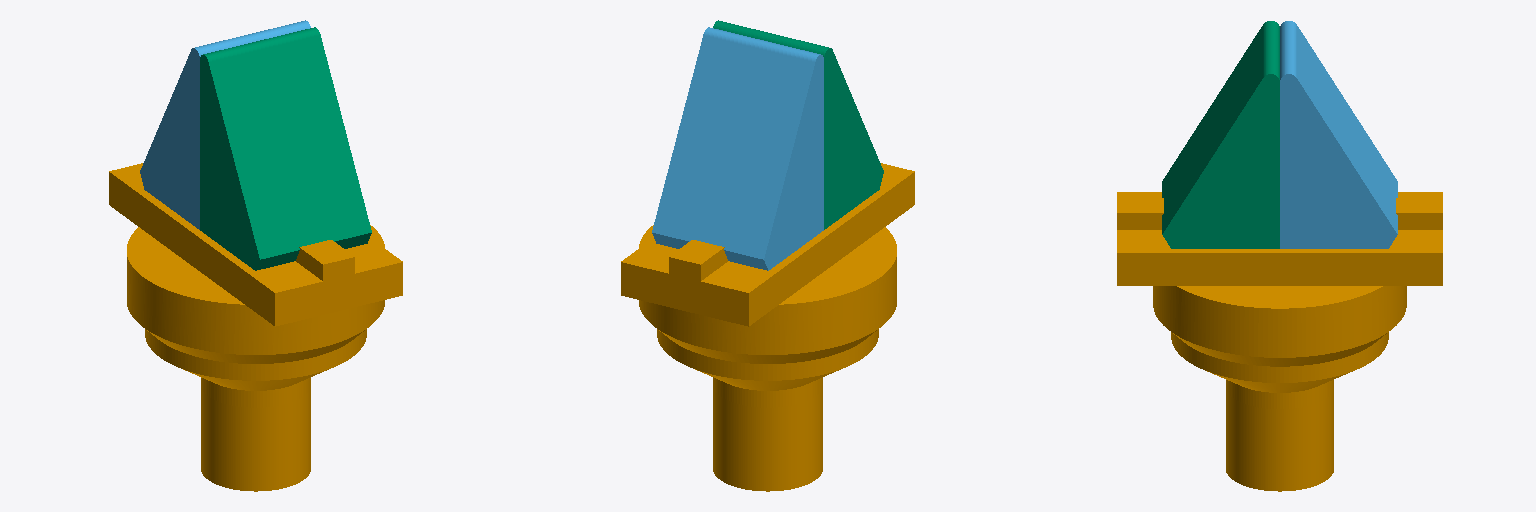
robot.urdf — pjm_standard:
<?xml version="1.0" ?>
<robot name="pjm_standard">


  <link name="pjm">
  <!-- IEEM -->
    <visual>
      <origin rpy="0 0 0" xyz="0 0 0"/>
      <geometry>
        <mesh filename="package://meshes/IEEM.obj" scale="0.001 0.001 0.001"/>
      </geometry>
    </visual>
    <collision>
      <origin rpy="0 0 0" xyz="0 0 0"/>
      <geometry>
        <mesh filename="package://meshes/IEEM.obj" scale="0.001 0.001 0.001"/>
      </geometry>
    </collision>

  <!-- Gripper Base -->
    <visual>
      <origin rpy="0 0 0" xyz="0 0 0.03"/>
      <geometry>
        <mesh filename="package://meshes/gripper_base.obj" scale="0.001 0.001 0.001"/>
      </geometry>
    </visual>
    <collision>
      <origin rpy="0 0 0" xyz="0 0 0.03"/>
      <geometry>
        <mesh filename="package://meshes/gripper_base.obj" scale="0.001 0.001 0.001"/>
      </geometry>
    </collision>

  </link>

  <!-- Left mandible -->
  <link name="lm">
    <visual>
      <origin rpy="-1.57079632679 0 0" xyz="-0.0175 0.075 0"/>
      <geometry>
        <mesh filename="package://meshes/standard_claw.obj" scale="0.001 0.001 0.001"/>
      </geometry>
    </visual>
    <collision>
      <origin rpy="-1.57079632679 0 0" xyz="-0.0175 0.075 0"/>
      <geometry>
        <mesh filename="package://meshes/standard_claw.obj" scale="0.001 0.001 0.001"/>
      </geometry>
    </collision>
  </link>
  <joint name="lm" type="prismatic">
    <parent link="pjm"/>
    <child link="lm"/>
    <origin xyz="0 0 0" rpy= "1.57079632679 0 0"/>
    <axis xyz="0 0 1"/>
    <limit effort="1000" velocity="1000" lower="-0.03" upper="0" />
  </joint>

  <!-- Right mandible -->
  <link name="rm">
    <visual>
      <origin rpy="-1.57079632679 3.14159265359 0" xyz="0.0175 0.075 0"/>
      <geometry>
        <mesh filename="package://meshes/standard_claw.obj" scale="0.001 0.001 0.001"/>
      </geometry>
    </visual>
    <collision>
      <origin rpy="-1.57079632679 3.14159265359 0" xyz="0.0175 0.075 0"/>
      <geometry>
        <mesh filename="package://meshes/standard_claw.obj" scale="0.001 0.001 0.001"/>
      </geometry>
    </collision>
  </link>
  <joint name="rm" type="prismatic">
    <parent link="pjm"/>
    <child link="rm"/>
    <origin xyz="0 0 0" rpy= "1.57079632679 0 0"/>
    <axis xyz="0 0 1"/>
    <limit effort="1000" velocity="1000" lower="0" upper="0.03" />
  </joint>

</robot>

--- What the picture shows (computed from the rendered views, not written in the file) ---
The picture shows the robot from 3 angles, left to right: view 1: azimuth 30°, elevation 25°; view 2: azimuth 150°, elevation 25°; view 3: azimuth 270°, elevation 25°; orthographic projection.
Model pjm_standard with 3 links and 2 joints (2 prismatic), rooted at pjm, posed every joint at zero.
Visible links, largest first — view 1: pjm, rm, lm; view 2: pjm, lm, rm; view 3: pjm, lm, rm.
Boxes of the visible links, left/top/right/bottom form: pjm: left=109, top=163, right=402, bottom=491; rm: left=200, top=27, right=371, bottom=270; lm: left=140, top=20, right=310, bottom=229; pjm: left=621, top=163, right=914, bottom=491; lm: left=652, top=27, right=823, bottom=270; rm: left=713, top=20, right=883, bottom=229; pjm: left=1117, top=192, right=1442, bottom=491; lm: left=1280, top=21, right=1397, bottom=248; rm: left=1162, top=21, right=1279, bottom=248.
Bounding box of the posed robot: 0.07 × 0.09 × 0.1283 m (x, y, z).
Meshes: 3 distinct files referenced, 4 mesh visuals loaded (3 OBJ).
